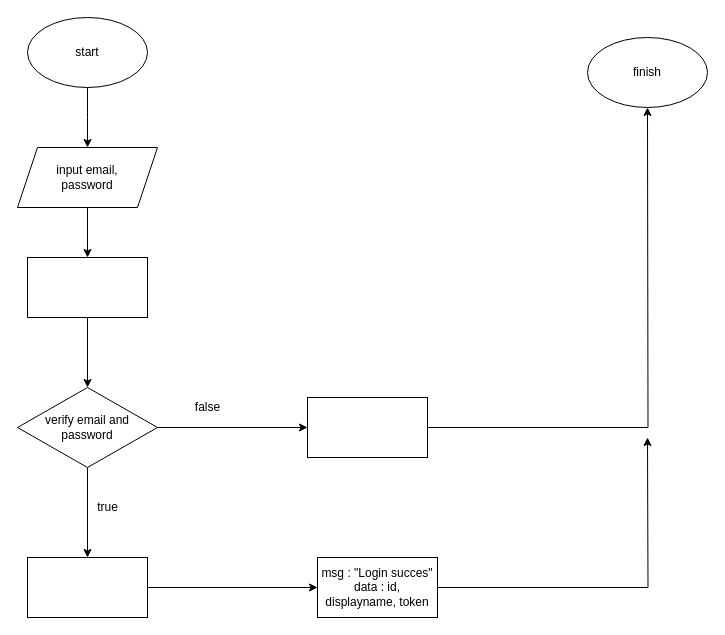
This 725x635 diagram has some shape labels left out. Here are the shapes that lost their labels. From the top down, the box of each, then its label:
(26, 256, 148, 318): get email and password from database
(306, 396, 428, 458): msg : "wrong email or password"
(26, 556, 148, 618): create token, set token to localstorage
